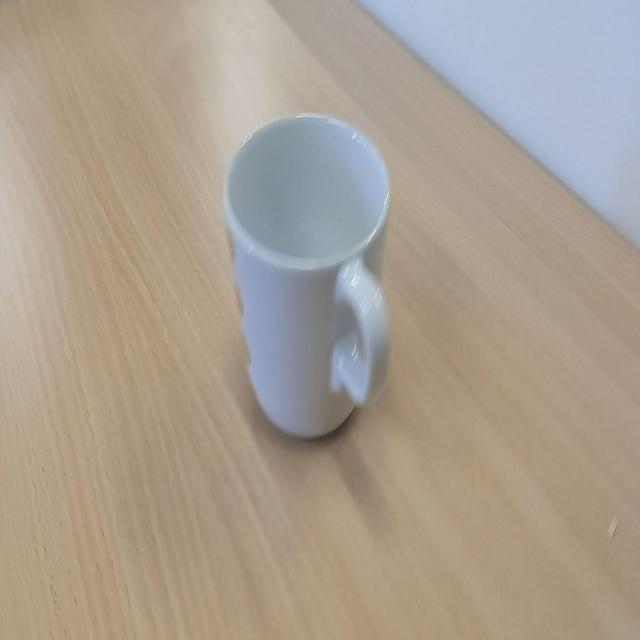cup: (218, 108, 408, 450)
